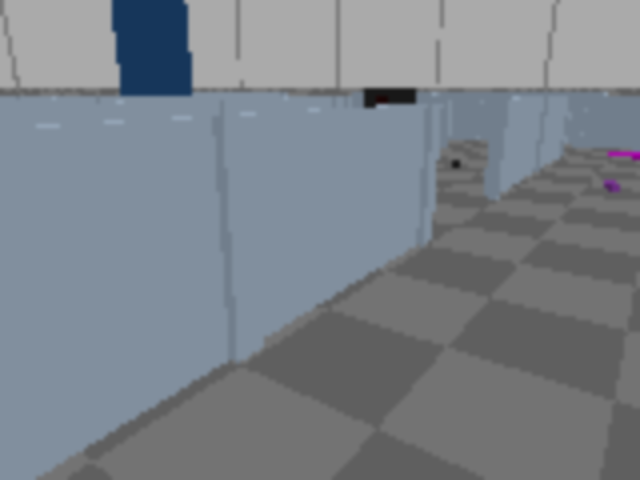goal_zone: (605, 151, 638, 160)
